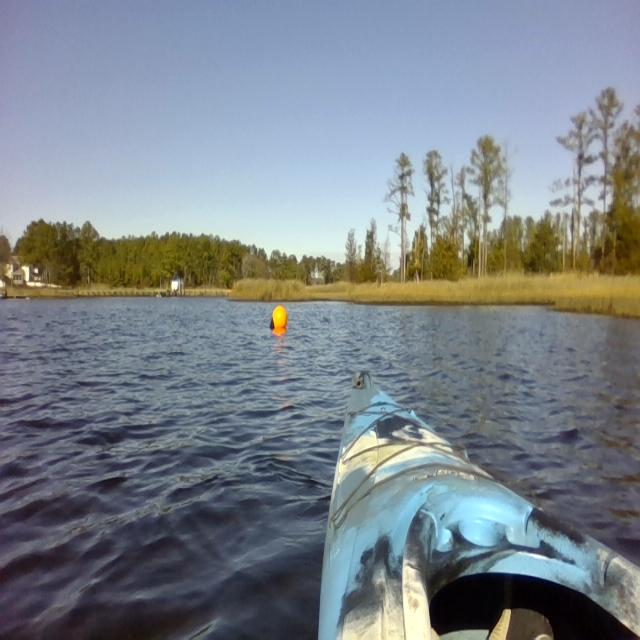Buoy: (266, 302, 290, 339)
